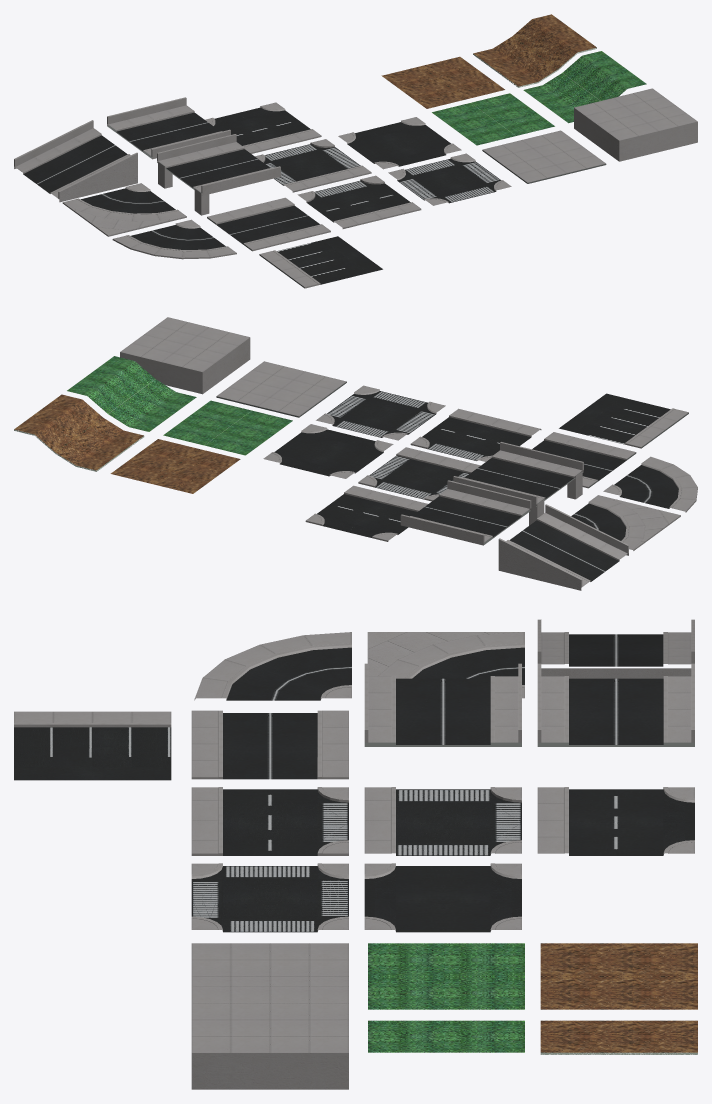
The model's file is LP_Objects_Pack_Roads.fbx.
3 renders of one model, top to bottom at view 1: azimuth 30°, elevation 25°; view 2: azimuth 150°, elevation 25°; view 3: azimuth 270°, elevation 25°, orthographic. The views are drawn at different scales.
Parts seen in each view (by area): view 1: Ground_Sidewalk_Block, Road_A_Bridge_Ramp, Road_A_Bridge_Straight_Posts, Ground_Dirt_Hill_A, Road_A_Bridge_Straight, Ground_Grass_Hill_A, Ground_Sidewalk_A, Road_A_Straight_Sidewalk, Road_A_Bend_Short_Cornerfill, Road_A_Intersection_3way_1Crosswalk, ParkingStalls_A, Road_A_Intersection_4way_Crosswalks (+6 smaller); view 2: Road_A_Bridge_Ramp, Ground_Sidewalk_Block, Ground_Dirt_Hill_A, Road_A_Bridge_Straight_Posts, Ground_Grass_Hill_A, Road_A_Bridge_Straight, Ground_Sidewalk_A, ParkingStalls_A, Road_A_Intersection_4way_Crosswalks, Road_A_Intersection_4way, Ground_Grass_A, Ground_Dirt_A (+6 smaller); view 3: Ground_Sidewalk_Block, Road_A_Bridge_Straight, Road_A_Bridge_Straight_Posts, ParkingStalls_A, Road_A_Straight_Sidewalk, Road_A_Intersection_3way_1Crosswalk, Road_A_Intersection_4way_Crosswalks, Road_A_Intersection_4way, Road_A_Intersection_3way_01, Road_A_Intersection_3way_3Crosswalk, Ground_Dirt_A, Ground_Grass_A (+6 smaller).
Boxes of the visible parts, box(x1,y1,x2,y2) form: Ground_Sidewalk_Block: box(574, 88, 697, 161); Road_A_Bridge_Ramp: box(14, 120, 137, 202); Road_A_Bridge_Straight_Posts: box(157, 134, 280, 215); Ground_Dirt_Hill_A: box(473, 14, 596, 87); Road_A_Bridge_Straight: box(107, 97, 230, 159); Ground_Grass_Hill_A: box(523, 51, 646, 123); Ground_Sidewalk_A: box(482, 130, 606, 183); Road_A_Straight_Sidewalk: box(207, 197, 330, 251); Road_A_Bend_Short_Cornerfill: box(62, 183, 186, 236); Road_A_Intersection_3way_1Crosswalk: box(297, 175, 421, 228); ParkingStalls_A: box(259, 236, 382, 288); Road_A_Intersection_4way_Crosswalks: box(388, 153, 511, 205); Road_A_Bridge_Ramp: box(498, 504, 628, 590); Ground_Sidewalk_Block: box(120, 317, 250, 394); Ground_Dirt_Hill_A: box(14, 394, 144, 471); Road_A_Bridge_Straight_Posts: box(453, 442, 583, 525); Ground_Grass_Hill_A: box(67, 356, 196, 431); Road_A_Bridge_Straight: box(400, 480, 531, 545); Ground_Sidewalk_A: box(216, 361, 346, 417); ParkingStalls_A: box(559, 393, 688, 448); Road_A_Intersection_4way_Crosswalks: box(316, 385, 445, 440); Road_A_Intersection_4way: box(263, 424, 393, 478); Ground_Grass_A: box(163, 400, 292, 455); Ground_Dirt_A: box(110, 439, 240, 493); Ground_Sidewalk_Block: box(191, 986, 348, 1089); Road_A_Bridge_Straight: box(537, 663, 694, 746); Road_A_Bridge_Straight_Posts: box(364, 663, 521, 746); ParkingStalls_A: box(14, 711, 171, 780); Road_A_Straight_Sidewalk: box(191, 710, 348, 779); Road_A_Intersection_3way_1Crosswalk: box(191, 787, 348, 855); Road_A_Intersection_4way_Crosswalks: box(191, 863, 348, 932); Road_A_Intersection_4way: box(364, 863, 521, 932); Road_A_Intersection_3way_01: box(537, 787, 694, 855); Road_A_Intersection_3way_3Crosswalk: box(364, 787, 521, 855); Ground_Dirt_A: box(540, 943, 697, 1009); Ground_Grass_A: box(368, 943, 524, 1009).
Bounding box in the file's own units: 137 × 7.32 × 86.99.
